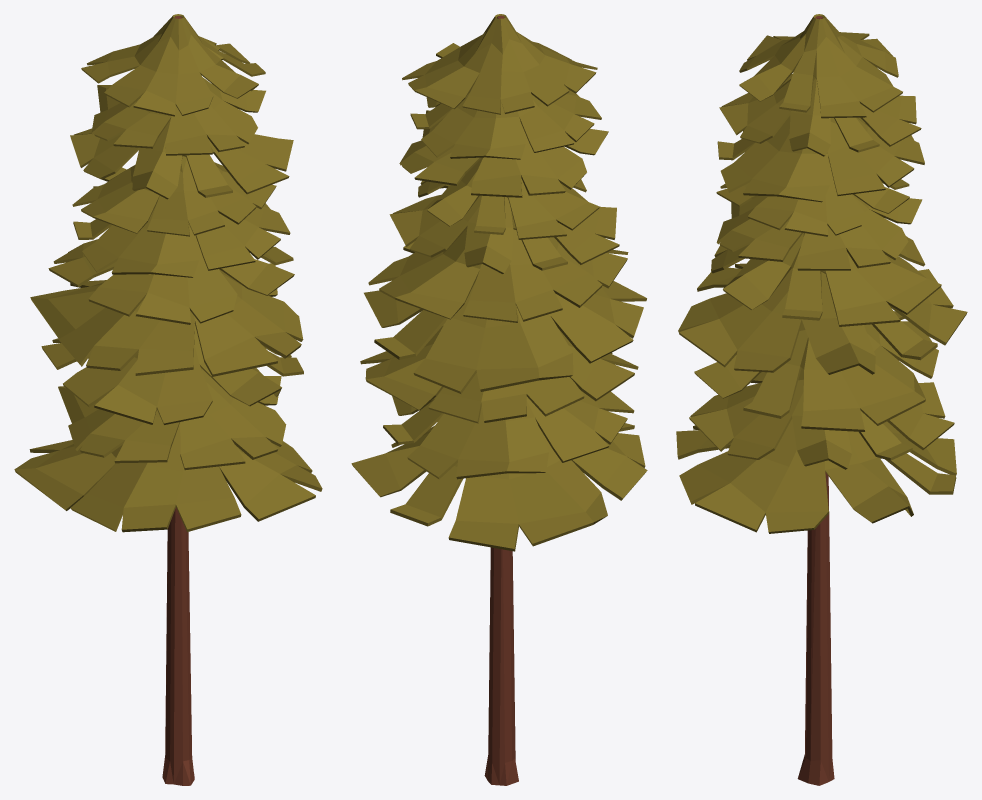
File: pine_healthy_LOD0.fbx
3 views of the same model, side by side, from view 1: azimuth 30°, elevation 25°; view 2: azimuth 150°, elevation 25°; view 3: azimuth 270°, elevation 25° (orthographic).
Visible parts, largest first — view 1: Circle.009, Circle.006, Circle.008, Circle, Circle.007, Circle.005, Circle.004, Circle.002, Circle.003, Circle.001, pine_trunk; view 2: Circle.009, Circle.006, Circle.008, Circle.005, Circle, Circle.007, Circle.001, Circle.004, Circle.002, Circle.003, pine_trunk; view 3: Circle.009, Circle.006, Circle.007, Circle, Circle.005, Circle.008, Circle.002, Circle.004, Circle.001, pine_trunk, Circle.003.
Part boxes in pixels (x1=…): Circle.009: x1=14, y1=422, x2=322, y2=532; Circle.006: x1=30, y1=263, x2=303, y2=376; Circle.008: x1=58, y1=368, x2=286, y2=470; Circle: x1=81, y1=14, x2=265, y2=116; Circle.007: x1=41, y1=324, x2=303, y2=424; Circle.005: x1=48, y1=235, x2=294, y2=324; Circle.004: x1=73, y1=186, x2=290, y2=277; Circle.002: x1=70, y1=120, x2=293, y2=199; Circle.003: x1=72, y1=156, x2=276, y2=236; Circle.001: x1=91, y1=77, x2=265, y2=155; pine_trunk: x1=162, y1=16, x2=194, y2=785; Circle.009: x1=351, y1=423, x2=647, y2=551; Circle.006: x1=364, y1=281, x2=646, y2=393; Circle.008: x1=383, y1=388, x2=634, y2=479; Circle.005: x1=368, y1=226, x2=628, y2=322; Circle: x1=402, y1=14, x2=597, y2=114; Circle.007: x1=360, y1=323, x2=638, y2=423; Circle.001: x1=410, y1=87, x2=601, y2=159; Circle.004: x1=389, y1=184, x2=619, y2=273; Circle.002: x1=399, y1=110, x2=608, y2=197; Circle.003: x1=418, y1=157, x2=599, y2=239; pine_trunk: x1=484, y1=15, x2=518, y2=785; Circle.009: x1=676, y1=419, x2=956, y2=533; Circle.006: x1=678, y1=263, x2=967, y2=374; Circle.007: x1=694, y1=311, x2=938, y2=431; Circle: x1=739, y1=14, x2=902, y2=118; Circle.005: x1=711, y1=233, x2=941, y2=326; Circle.008: x1=689, y1=368, x2=954, y2=469; Circle.002: x1=717, y1=115, x2=924, y2=202; Circle.004: x1=716, y1=194, x2=922, y2=270; Circle.001: x1=719, y1=74, x2=921, y2=156; pine_trunk: x1=797, y1=16, x2=834, y2=785; Circle.003: x1=716, y1=158, x2=909, y2=236.
Size of the model in its own units: 971 by 2876 by 997.
